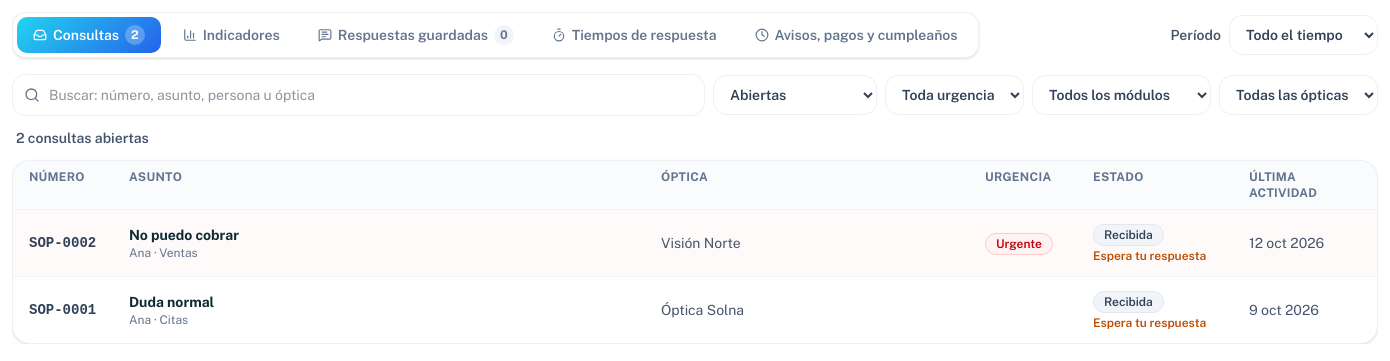
Scenario: Soporte del superadmin: bandeja › busca por número
The image size is (1390, 361).
In the search field named "Buscar consultas": (358, 95) [12,74,705,116], type "SOP-0001"
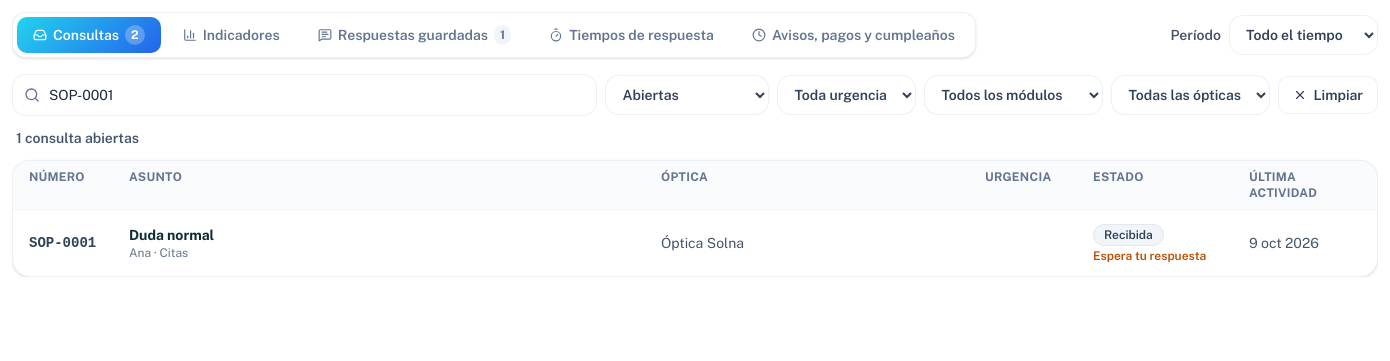
expect the list item shows "Duda normal": met, box [129,225,214,245]
expect the number of list items is 1: met, box [29,224,1319,263]
